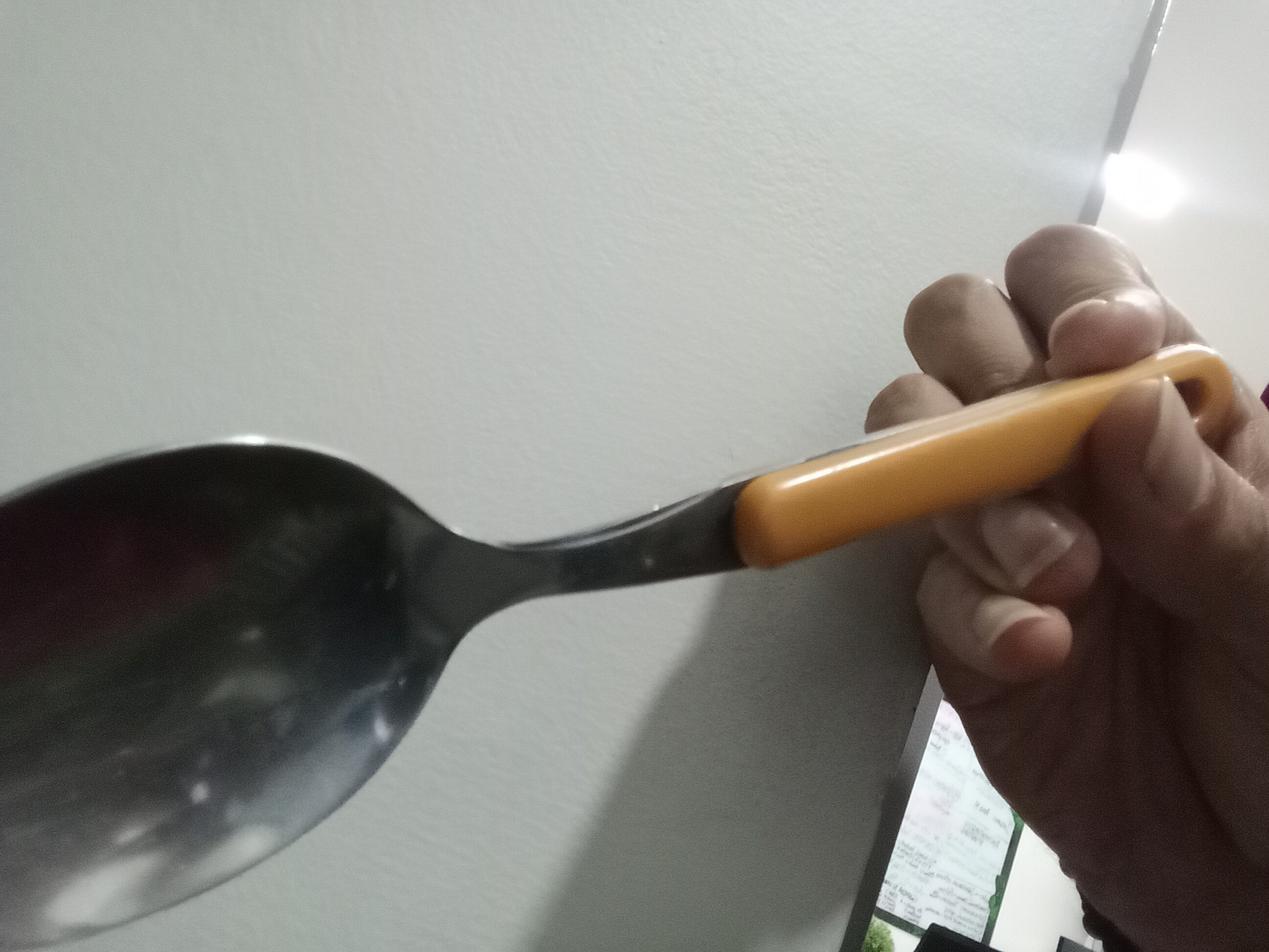Metal: (0, 438, 749, 951)
